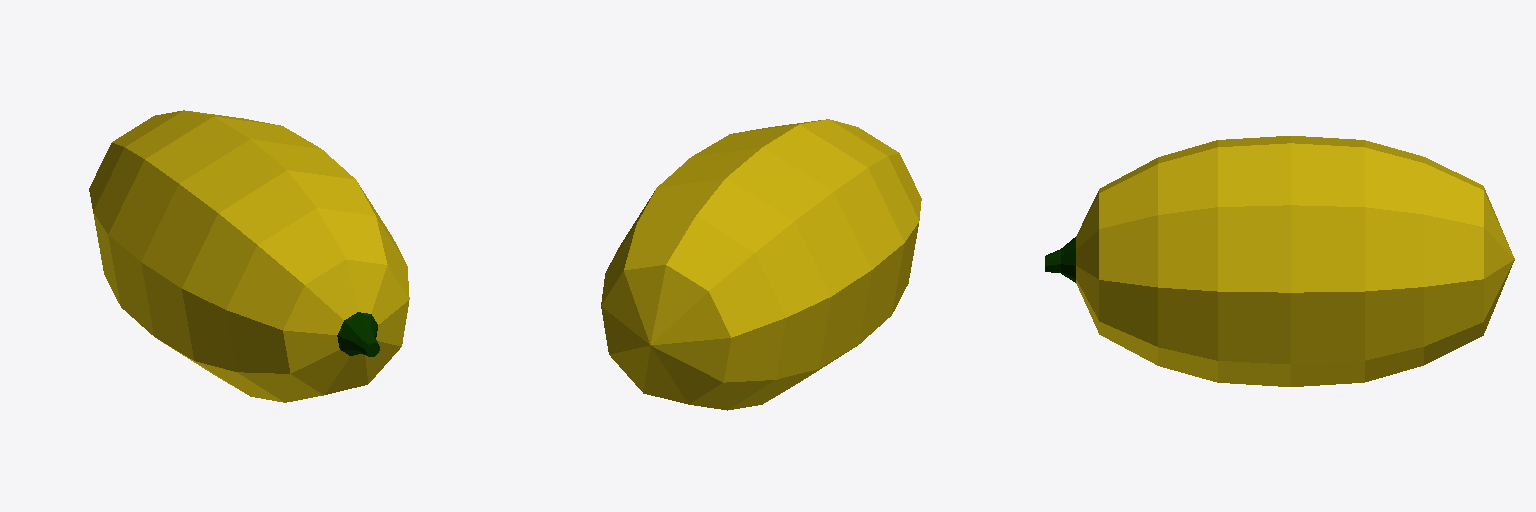
The picture shows the model from 3 angles: view 1: azimuth 30°, elevation 25°; view 2: azimuth 150°, elevation 25°; view 3: azimuth 270°, elevation 25°; orthographic projection.
Parts seen in each view (by area): view 1: Melon_Sphere.008; view 2: Melon_Sphere.008; view 3: Melon_Sphere.008.
Part boxes in pixels (left/top/right/bottom): Melon_Sphere.008: left=89, top=110, right=409, bottom=402; Melon_Sphere.008: left=601, top=119, right=921, bottom=410; Melon_Sphere.008: left=1045, top=136, right=1514, bottom=386.
Bounding box in the file's own units: 2.43 × 2.4 × 4.53.
Materials: 1 (1 with a texture image).